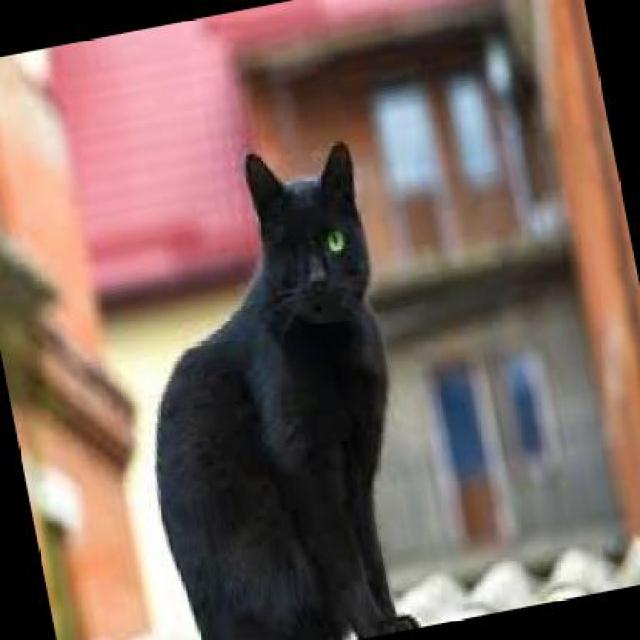animals: (0, 121, 471, 638)
